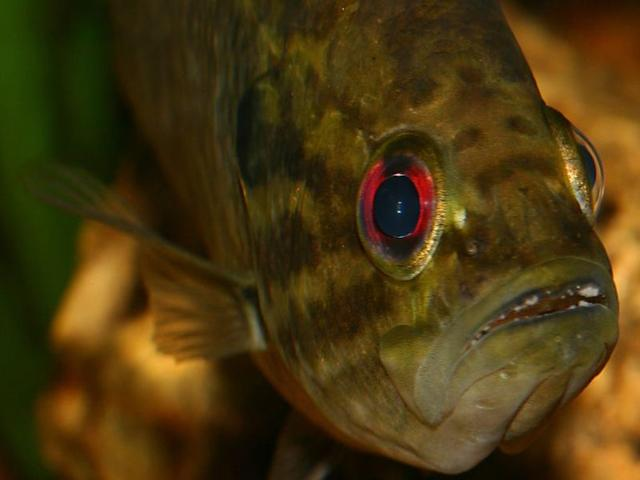fish: (39, 5, 619, 461)
